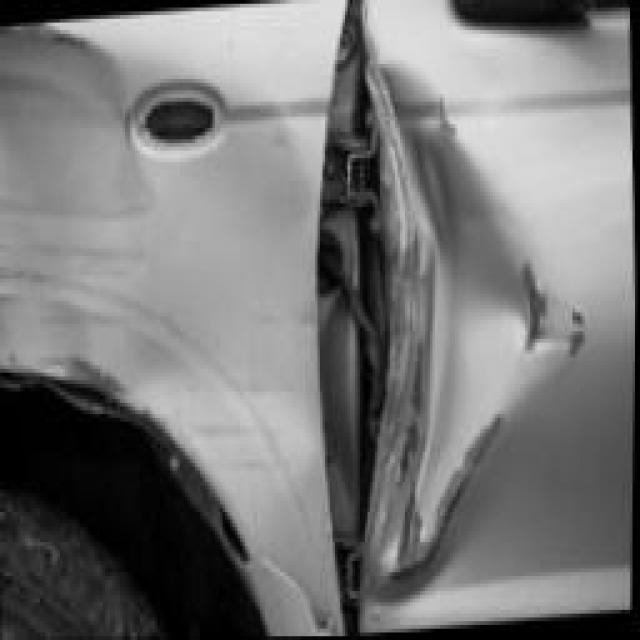Door: (314, 1, 636, 635)
Fender: (0, 7, 350, 638)
